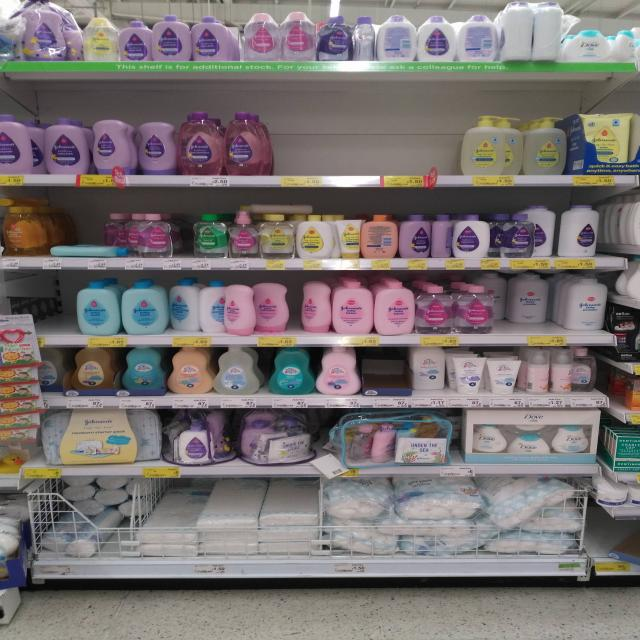void: (274, 106, 453, 175), (15, 276, 75, 335), (366, 348, 408, 394)
